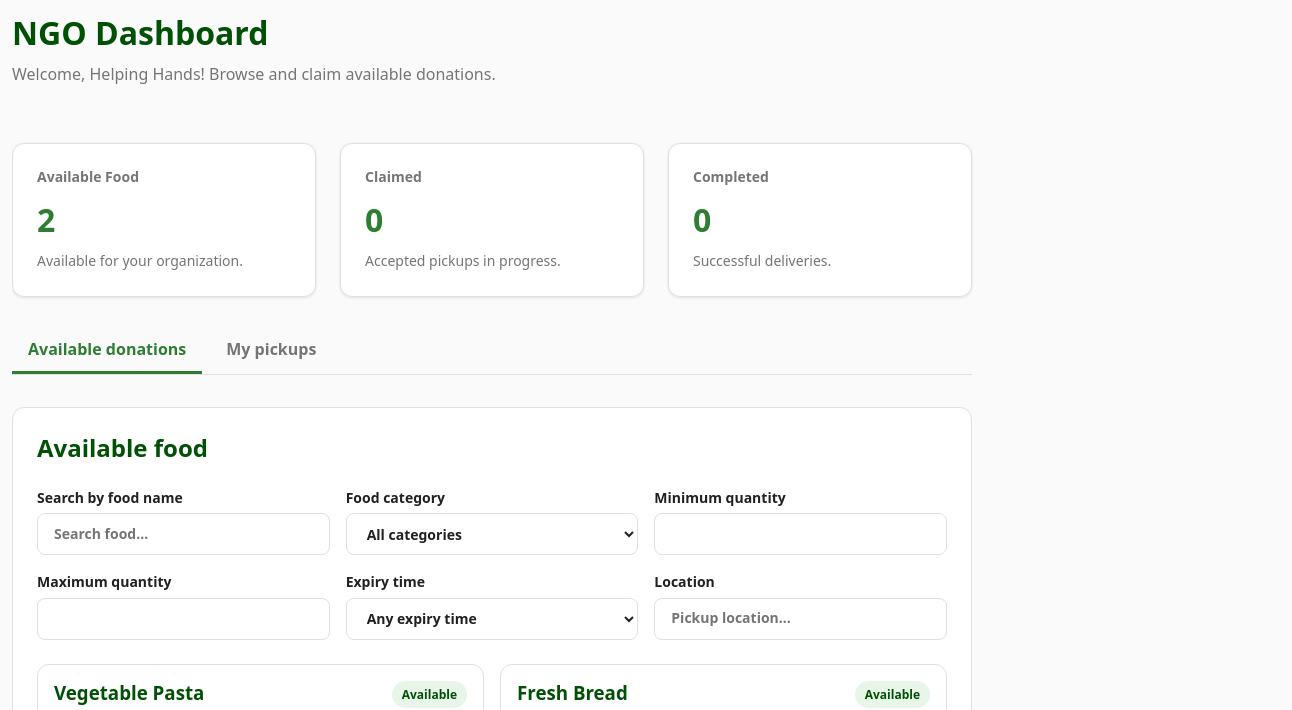
Test: NgoDashboard › searches donations by food name
The width and height of the screenshot is (1292, 710).
Type "Bread" into the search field labelled "Search by food name" at [183, 534], box [37,513,330,555]
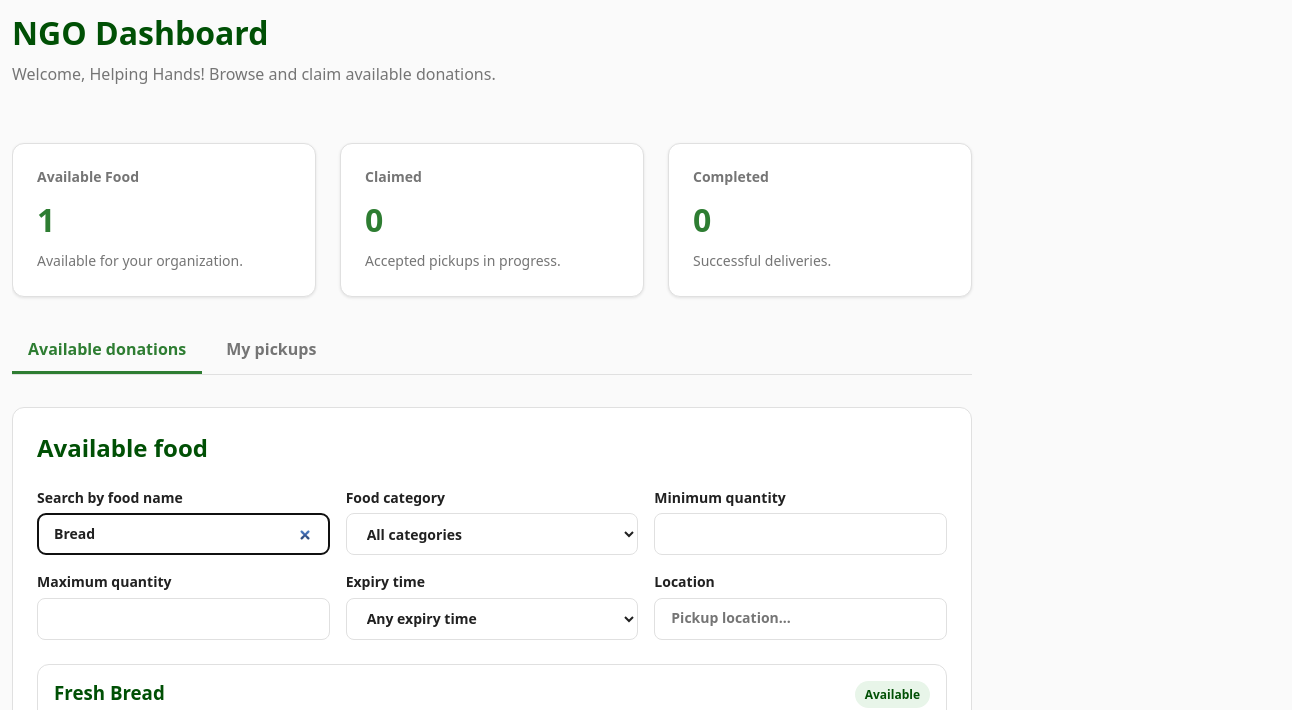
Expected: the heading "Fresh Bread" is shown, [54,680,165,705]
Expected: the heading "Vegetable Pasta" is gone
